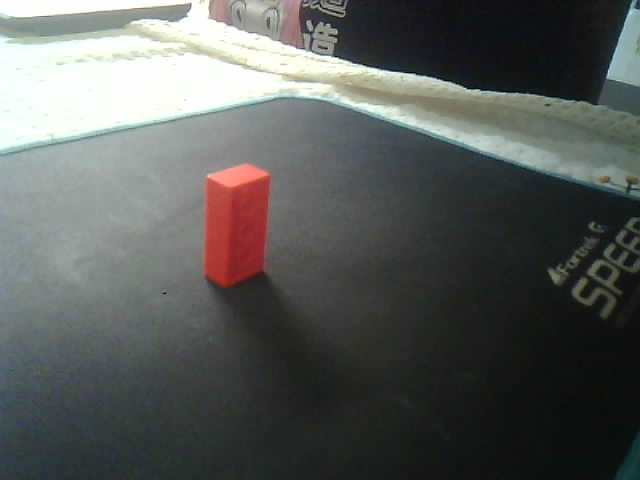lego: (202, 162, 270, 289)
